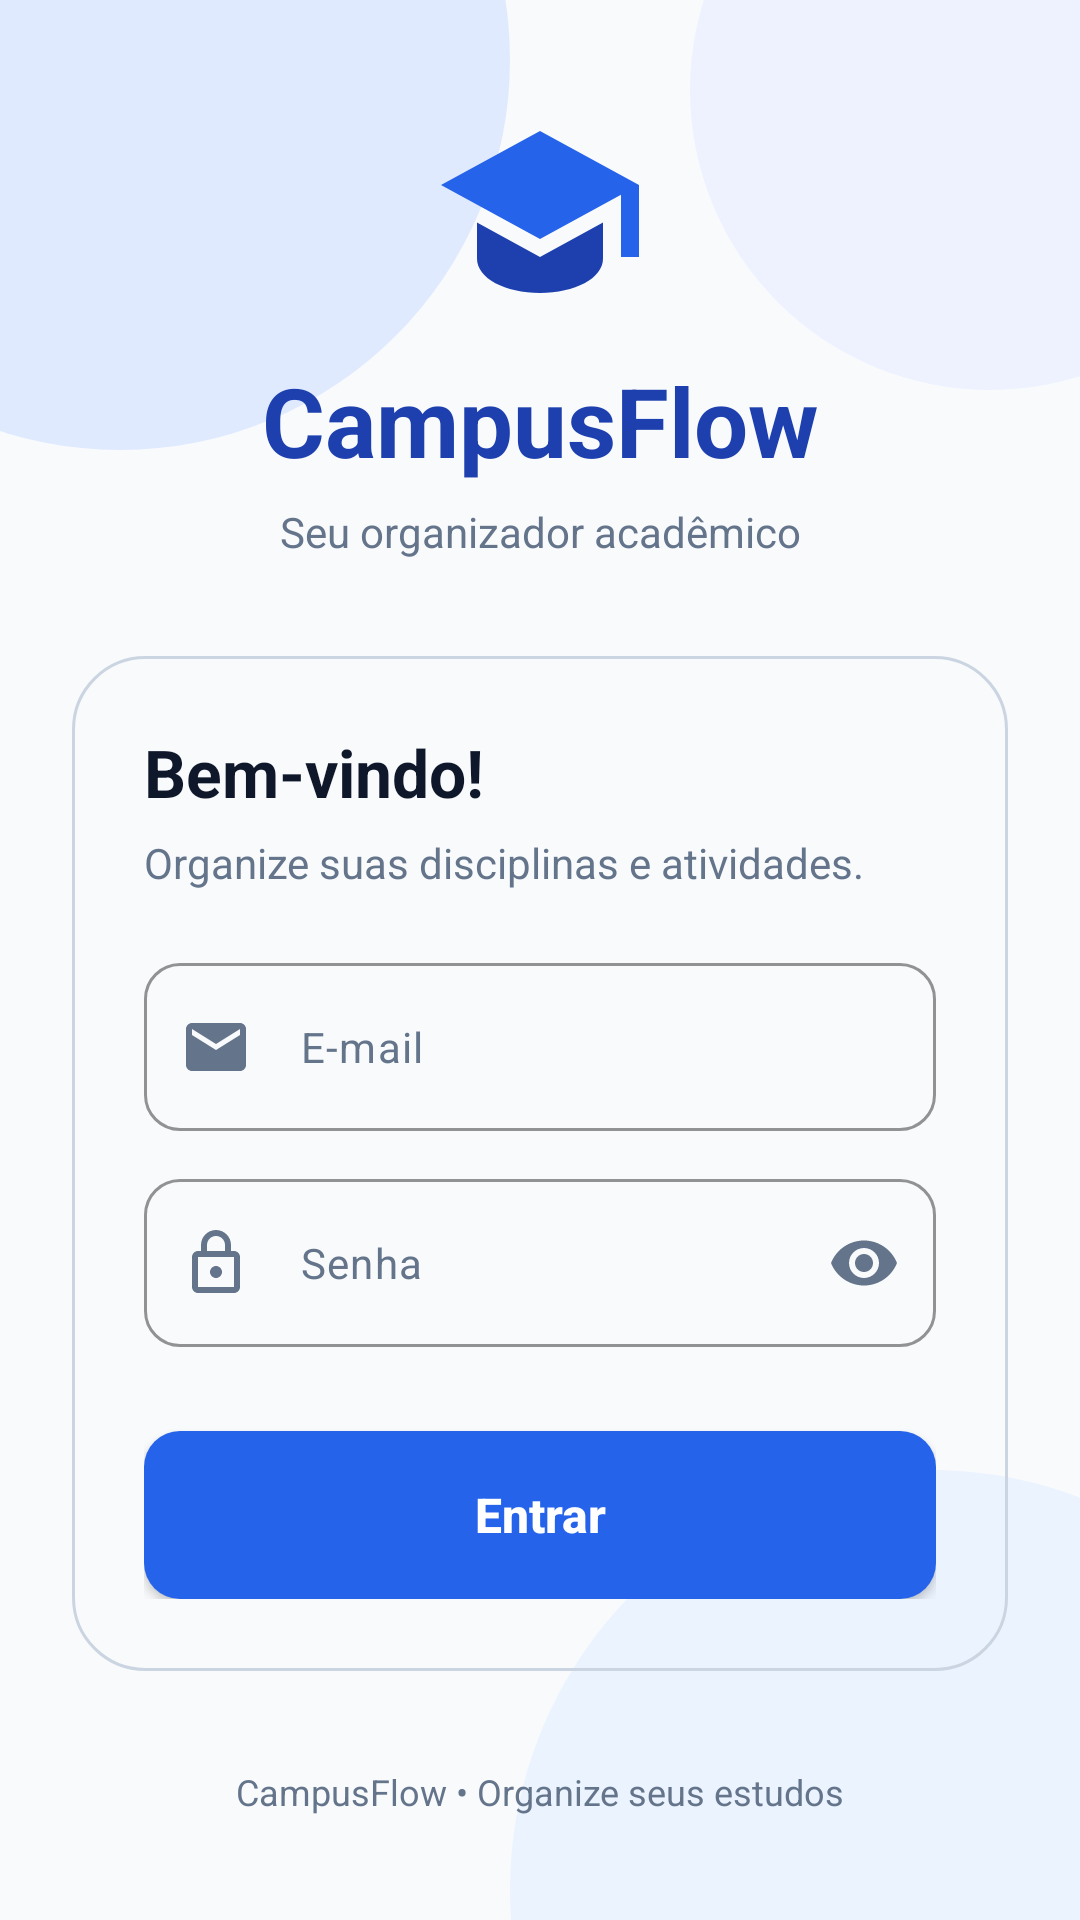

Where icons sit on this 1080 x 1920 app screen, as box=[x1, y1, x2, y2]:
academic cap: box=[441, 131, 639, 293]
